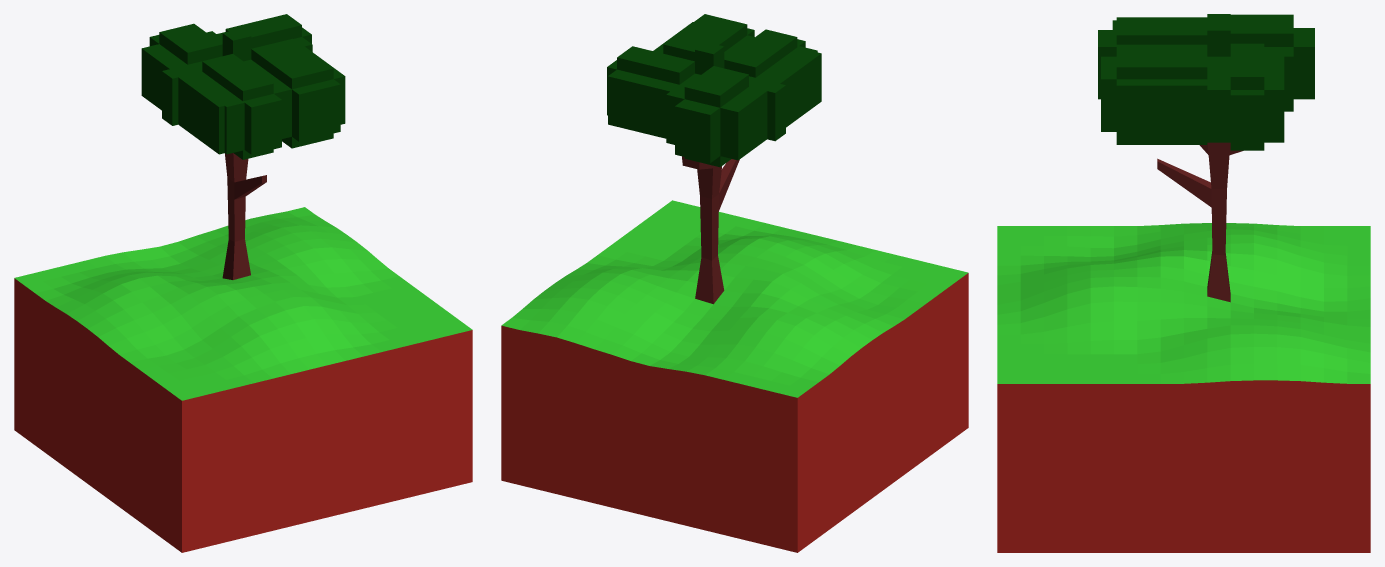
Rendered from grassblock5.fbx.
The picture shows the model from 3 angles, left to right: view 1: azimuth 30°, elevation 25°; view 2: azimuth 150°, elevation 25°; view 3: azimuth 270°, elevation 25°; orthographic projection. The views are drawn at different scales.
Visible parts, largest first — view 1: Cube; view 2: Cube; view 3: Cube.
Part boxes in pixels (left/top/right/bottom): Cube: left=14, top=14, right=472, bottom=552; Cube: left=501, top=14, right=968, bottom=552; Cube: left=997, top=14, right=1370, bottom=552.
Bounding box in the file's own units: 100 × 134 × 100.
